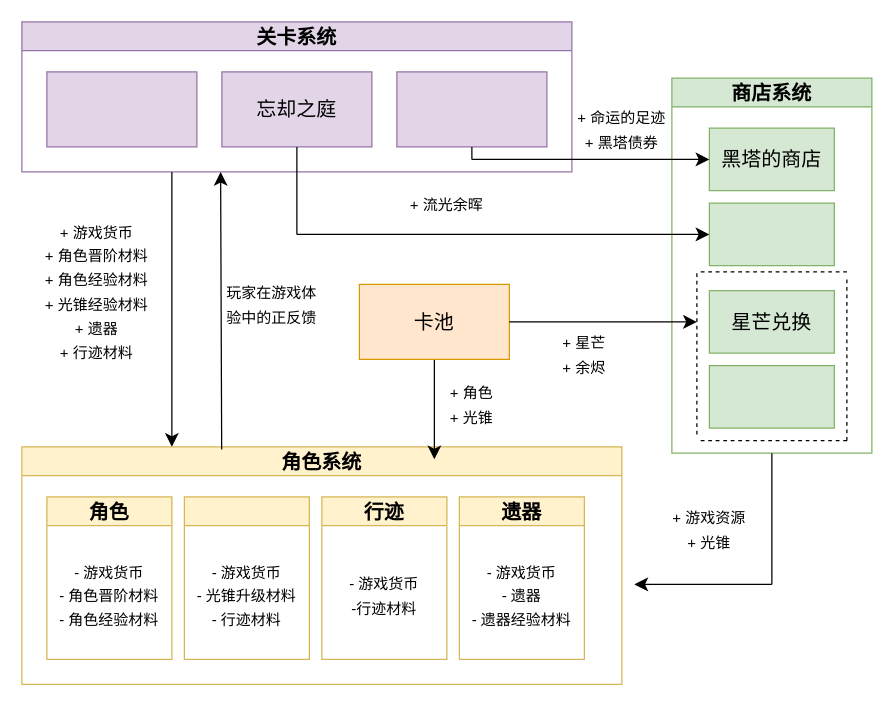
This 894x706 diagram has some shape labels left out. Here are the shapes that lost their labels. From the top down, the box of each, then its label:
(46, 71, 197, 147): 常驻资源本
(396, 71, 547, 147): 模拟宇宙
(708, 202, 834, 266): 光锥呈现
(708, 364, 834, 428): 余烬兑换
(183, 496, 309, 659): 光锥
